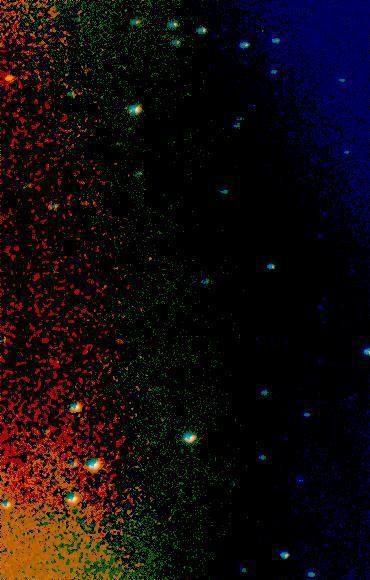star: (0, 64, 21, 94)
